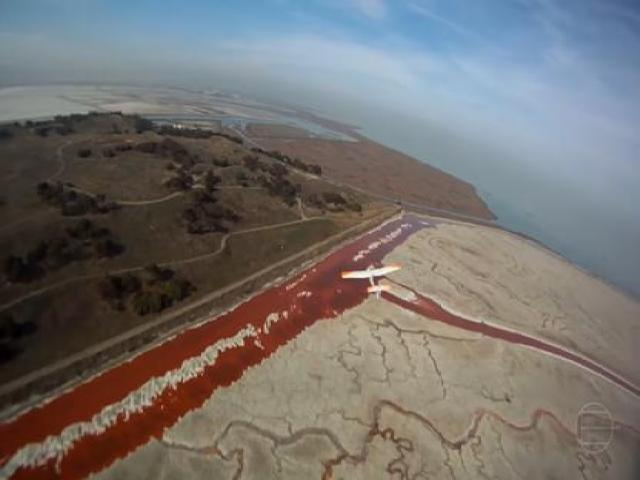uav: (336, 257, 404, 301)
